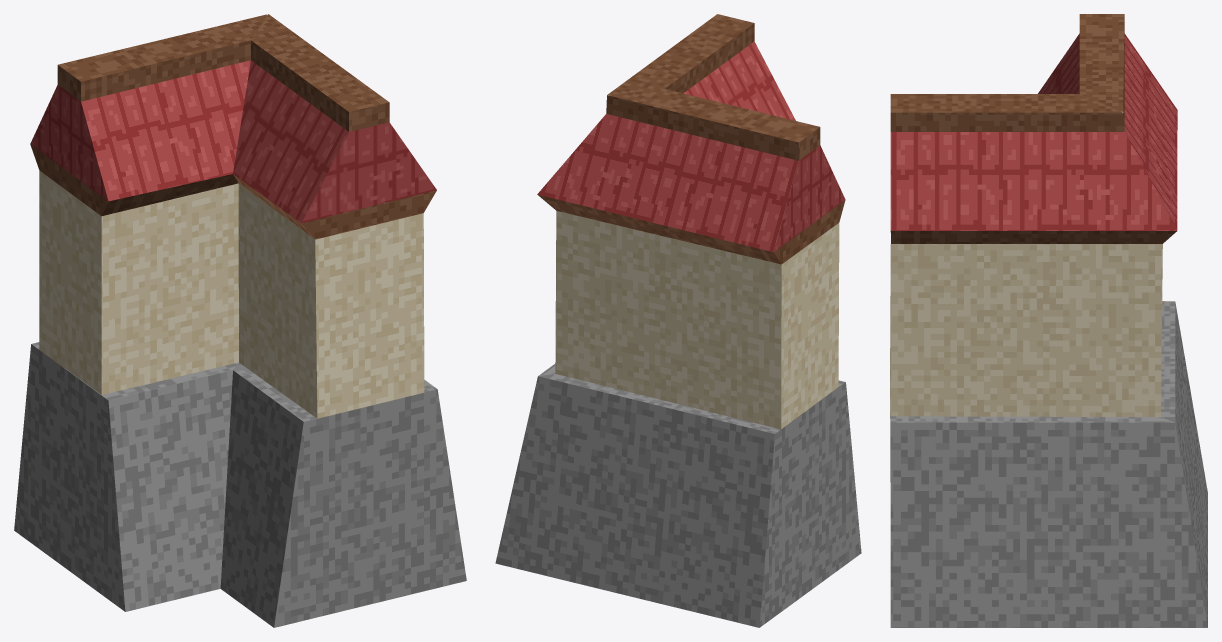
File: MuroEsquinaJapon.fbx
The picture shows the model from 3 angles, left to right: view 1: azimuth 30°, elevation 25°; view 2: azimuth 150°, elevation 25°; view 3: azimuth 270°, elevation 25°; orthographic projection. The views are drawn at different scales.
Visible parts, largest first — view 1: MuroLateral; view 2: MuroLateral; view 3: MuroLateral.
Boxes of the visible parts, x1,y1,x2,y2 form: MuroLateral: [14, 14, 466, 627]; MuroLateral: [495, 14, 861, 627]; MuroLateral: [890, 14, 1207, 627].
Bounding box in the file's own units: 1.51 × 1.5 × 2.5.
1 material, 1 textured.
